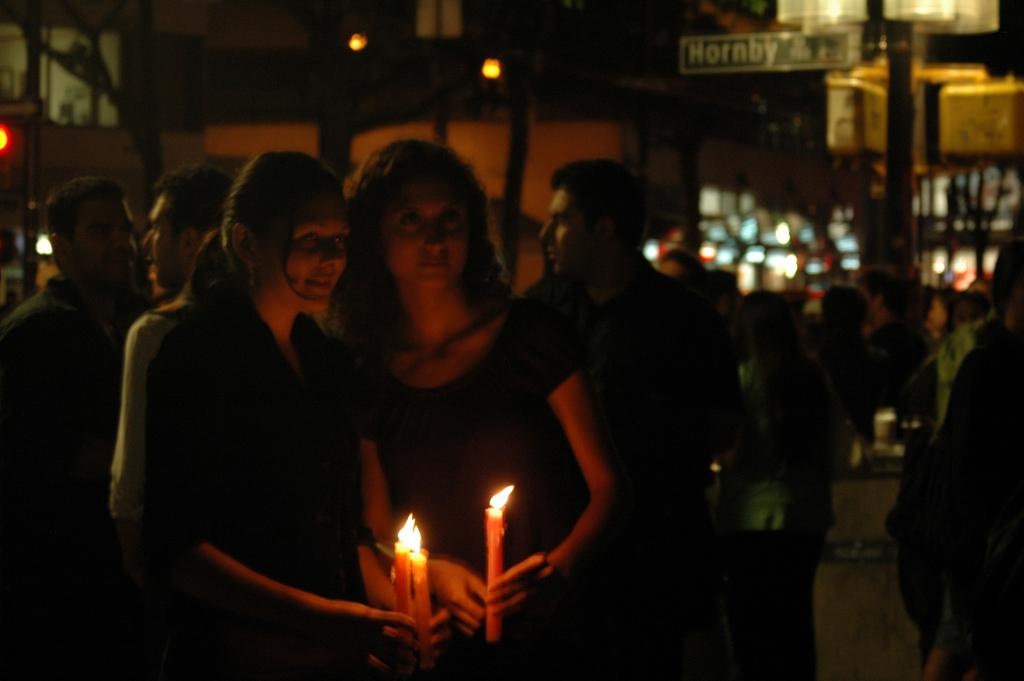fire: (480, 482, 532, 517), (395, 510, 433, 557)
